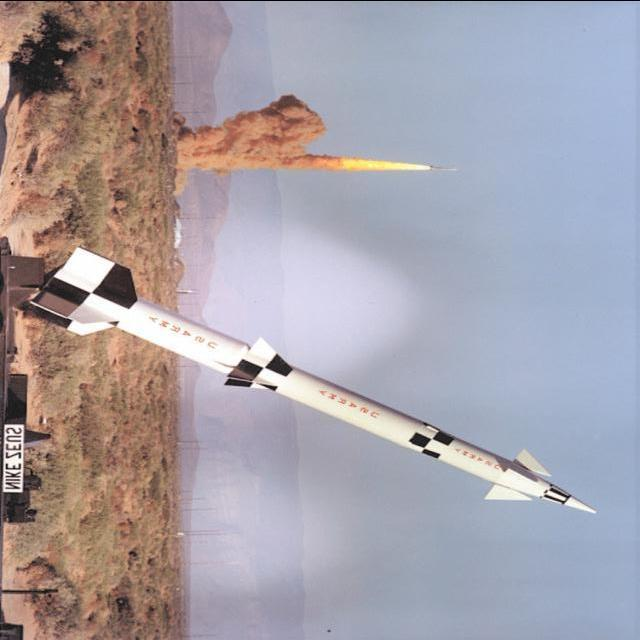Missile: (36, 244, 600, 522), (425, 161, 459, 172)
